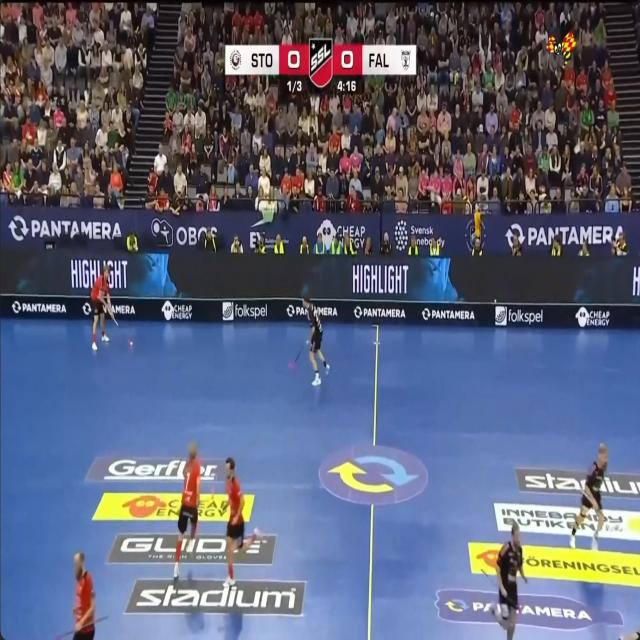Balls: (128, 339, 133, 346)
player: (224, 458, 259, 585), (570, 444, 608, 550), (173, 442, 201, 578), (495, 524, 526, 639), (303, 298, 329, 385), (73, 551, 95, 639), (90, 265, 111, 350)
stick: (481, 569, 495, 585), (293, 344, 304, 363), (56, 629, 75, 639), (109, 309, 119, 325), (504, 596, 517, 608), (93, 615, 108, 624)
